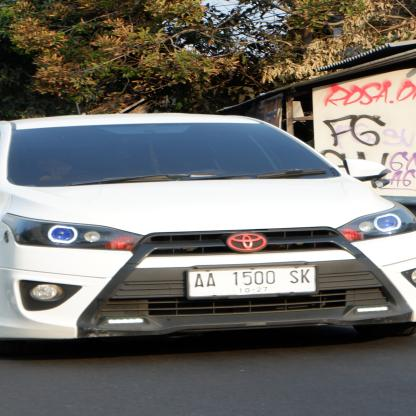Plat-Nomor: (187, 262, 319, 298)
